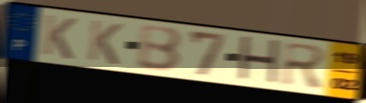7: (188, 29, 229, 78)
B: (136, 24, 185, 74)
H: (236, 34, 282, 88)
K: (40, 13, 79, 62), (86, 18, 124, 67)
R: (279, 40, 328, 91)
